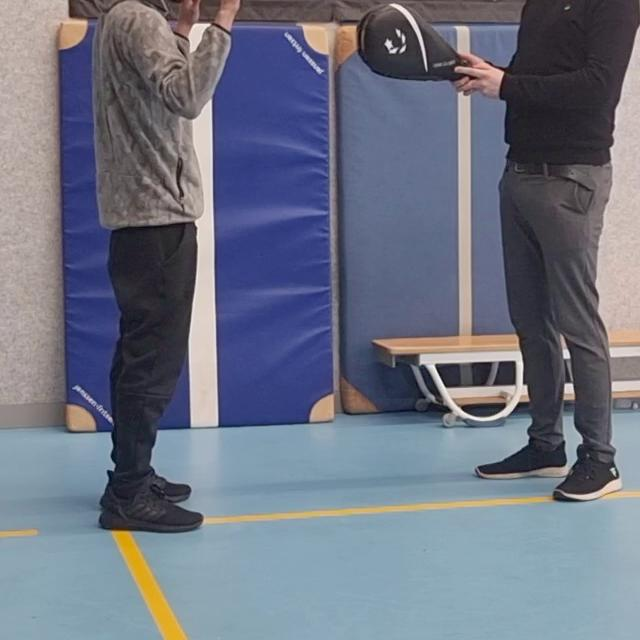paddle: (357, 0, 470, 79)
